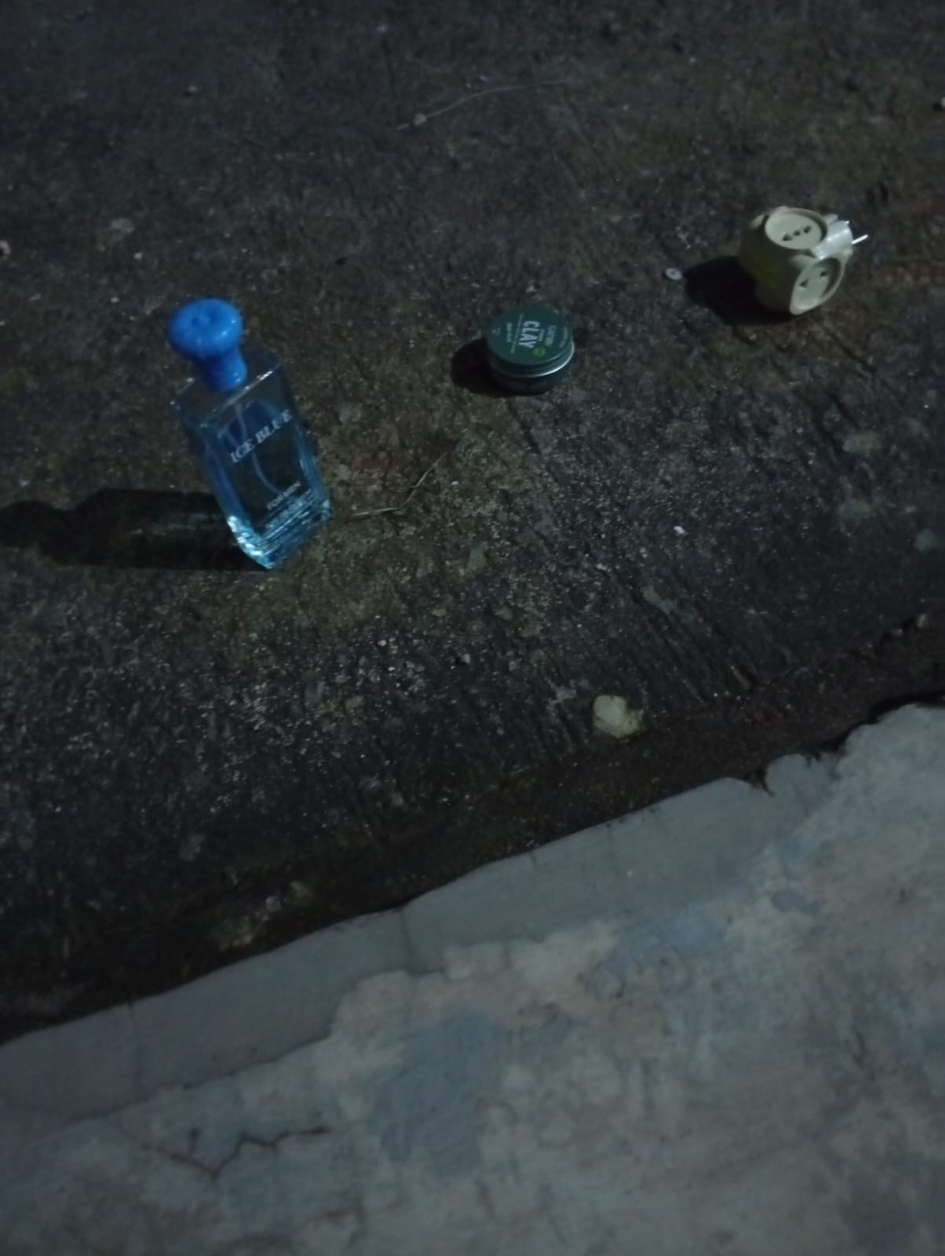Colokan: (699, 183, 890, 341), (432, 370, 578, 496)
Minyak_Rambut: (74, 348, 313, 647)
